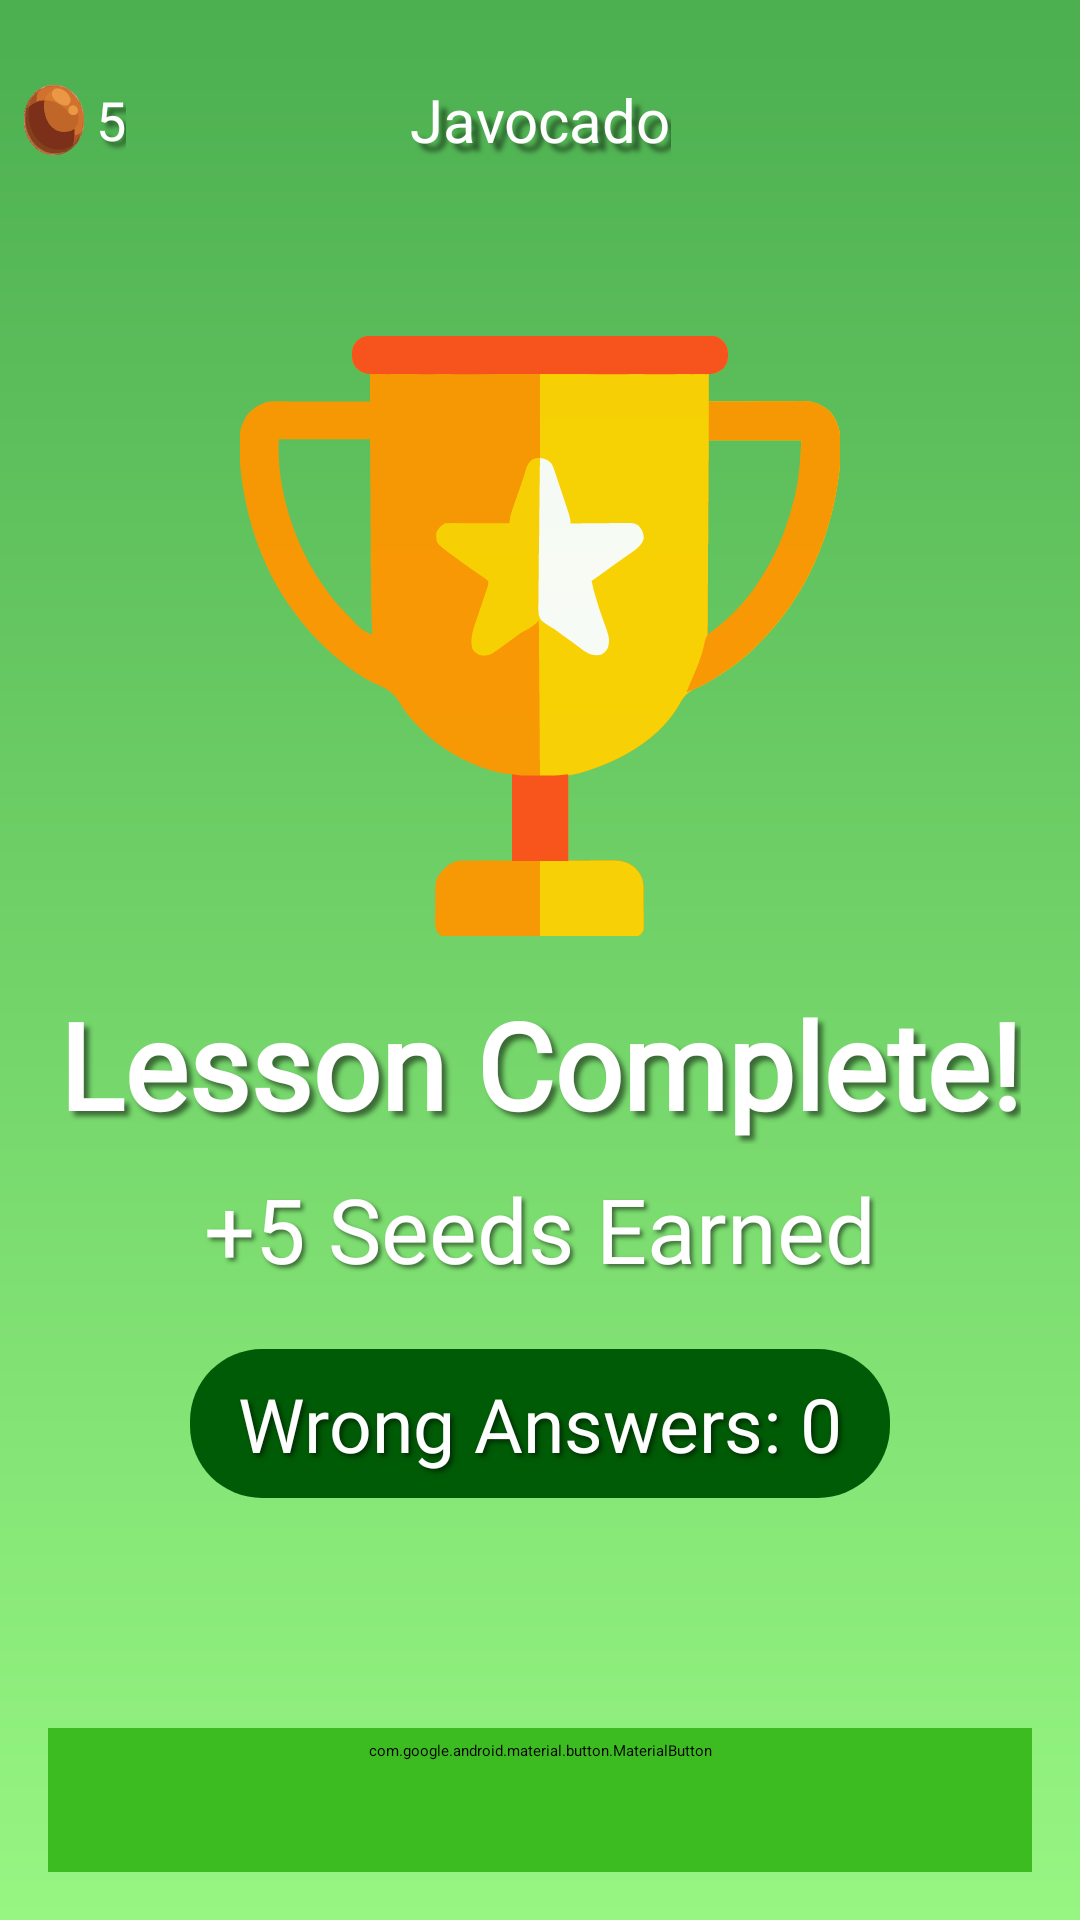

Where icons sit on this 1080 x 1920 app screen, as (x1, y1, x2, y2):
seed: (24, 85, 84, 155)
